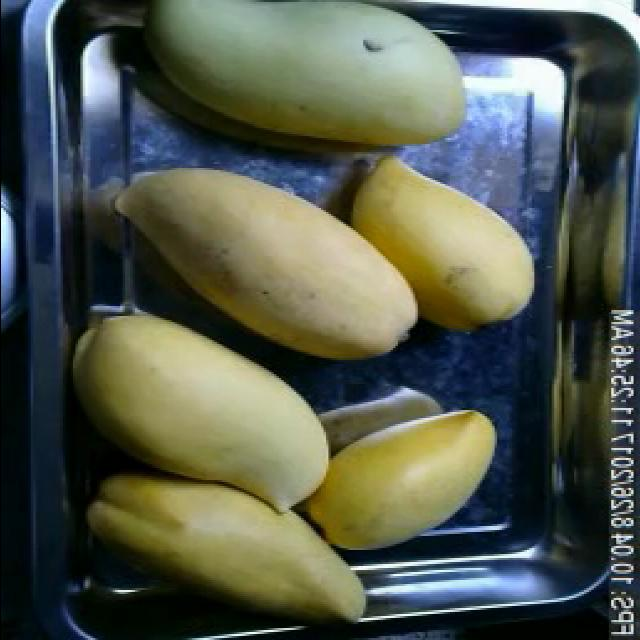fruit: (99, 156, 439, 380), (67, 300, 347, 522), (72, 446, 372, 630), (320, 130, 548, 346), (298, 392, 502, 562)
